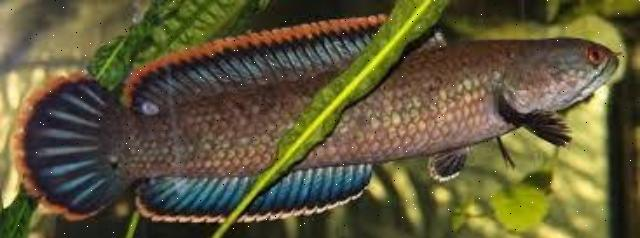Mulut: (566, 33, 624, 111)
Sirip Anal: (126, 161, 384, 230)
Sirip Dada: (491, 78, 585, 153), (426, 142, 476, 188)
Sirip Ekor: (7, 60, 127, 229)
Sirip Perut: (481, 128, 524, 174)
Sirip Punggung: (119, 9, 445, 117)
